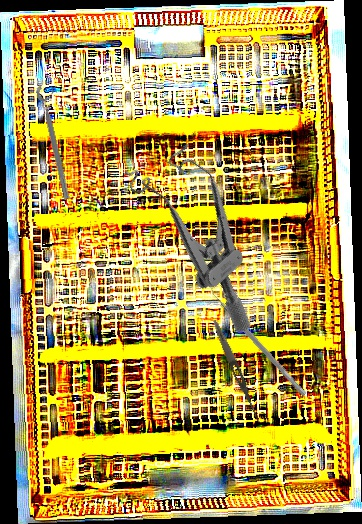Dressing Forceps: (210, 318, 264, 425)
Fixation Ring: (35, 83, 79, 201)
Spatula Surgical: (204, 283, 312, 397)
Speculum: (107, 126, 307, 338)
